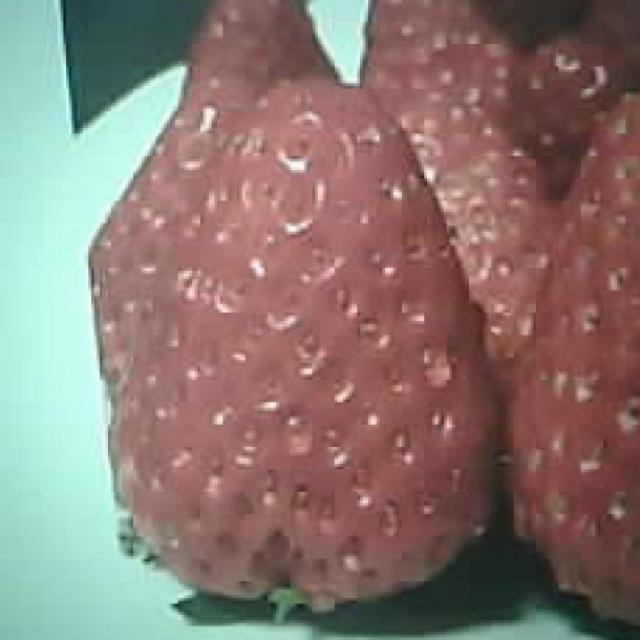Healthy Fruit: (86, 0, 499, 615)
